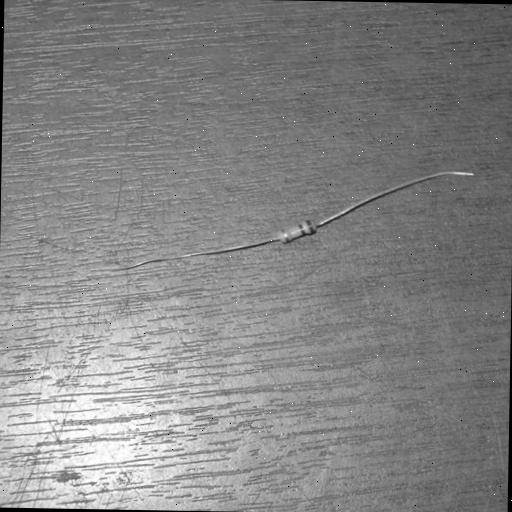RESISTOR: (238, 192, 364, 353)
